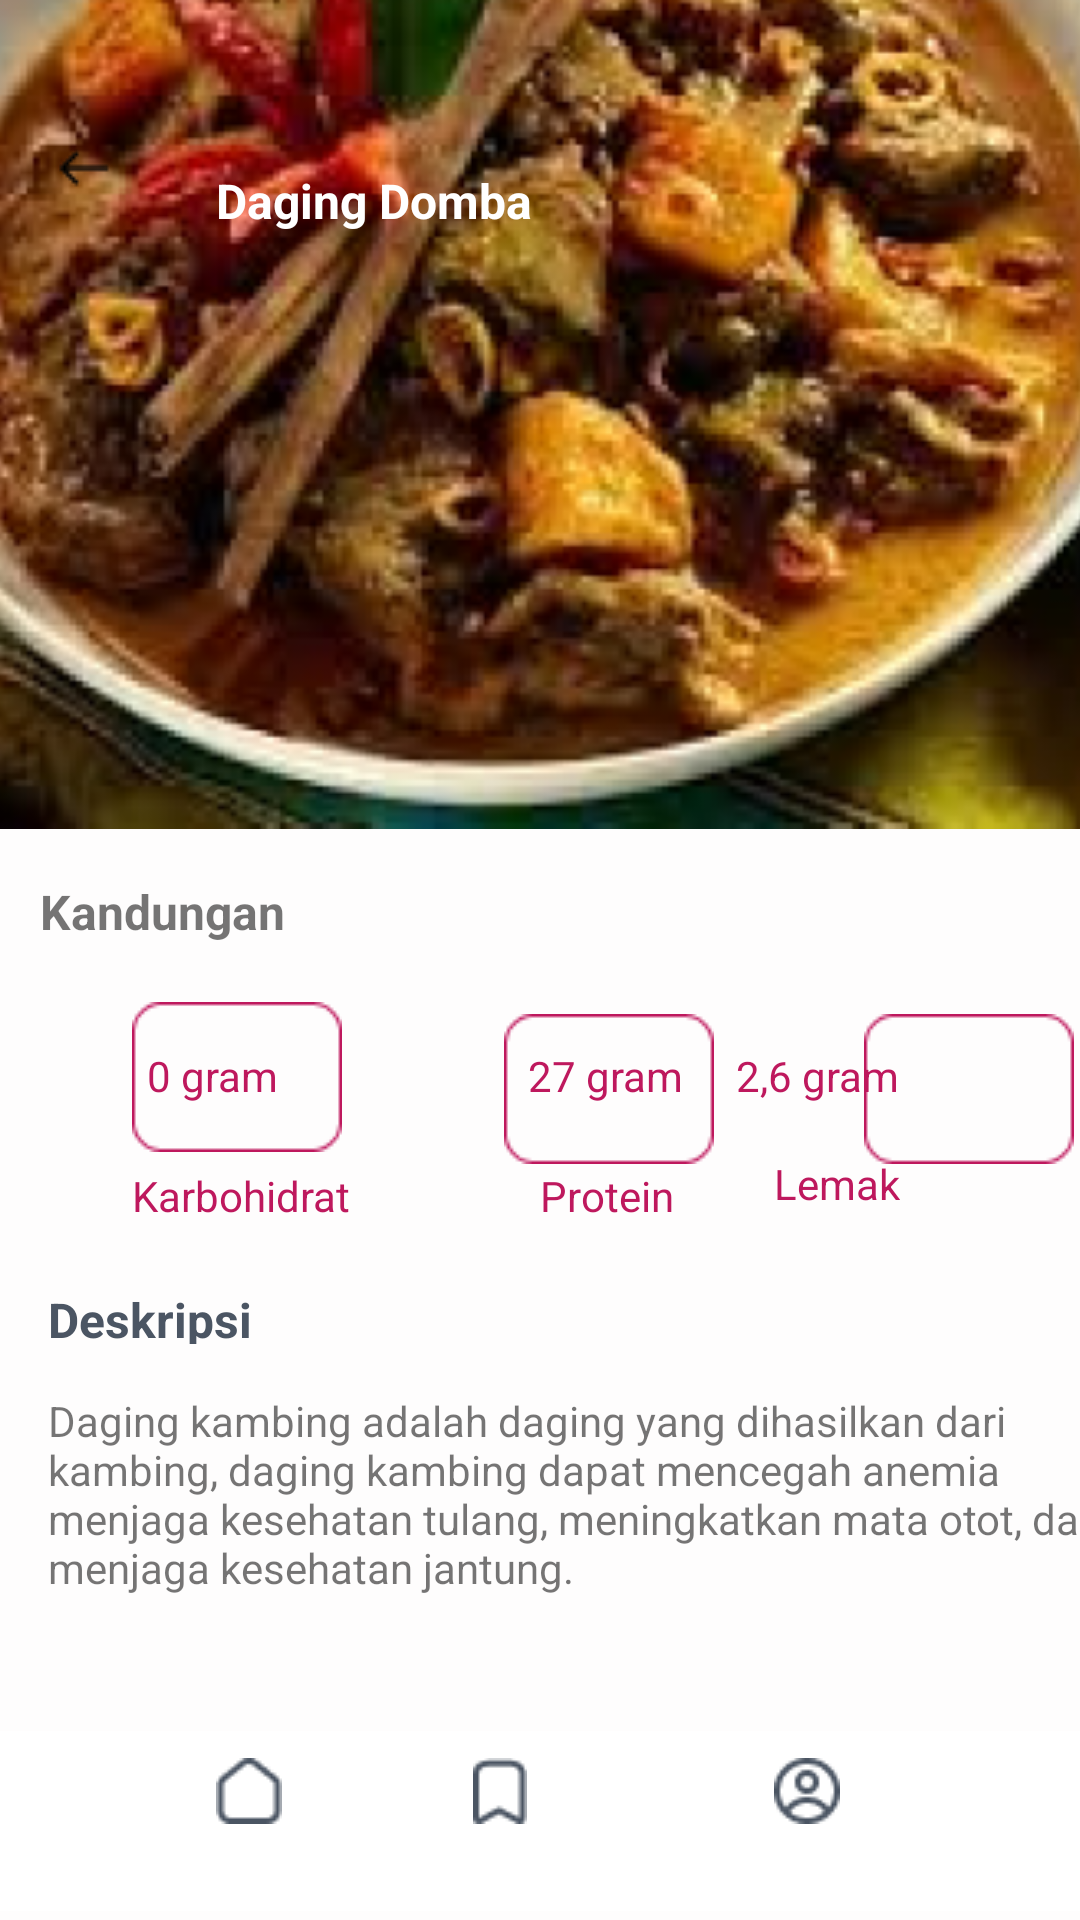

Point at icon controls on the screen. Image size 1080 x 1920, points as [x,y].
homee: [249,1791]
iconback: [84,168]
simpan: [500,1791]
